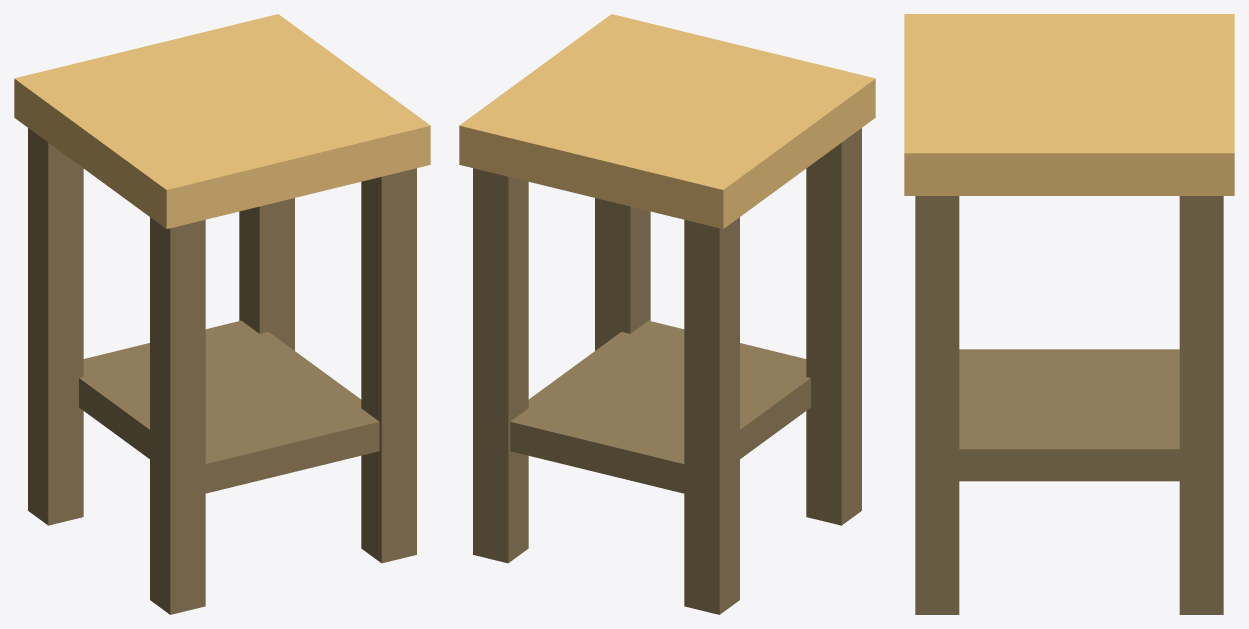
The model's file is Stool_1B.fbx.
3 renders of one model, left to right at view 1: azimuth 30°, elevation 25°; view 2: azimuth 150°, elevation 25°; view 3: azimuth 270°, elevation 25°, orthographic. The views are drawn at different scales.
Visible parts, largest first — view 1: polySurface2084; view 2: polySurface2084; view 3: polySurface2084.
Boxes of the visible parts, x1,y1,x2,y2 form: polySurface2084: (14,14,430,614); polySurface2084: (459,14,875,614); polySurface2084: (904,14,1234,614).
Bounding box in the file's own units: 0.6 × 0.935 × 0.6.
Materials: 1 (1 with a texture image).
